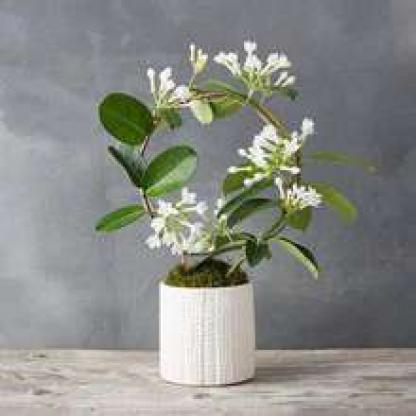Melati: (236, 122, 336, 218), (145, 190, 232, 270), (219, 33, 308, 107), (135, 58, 209, 120)
